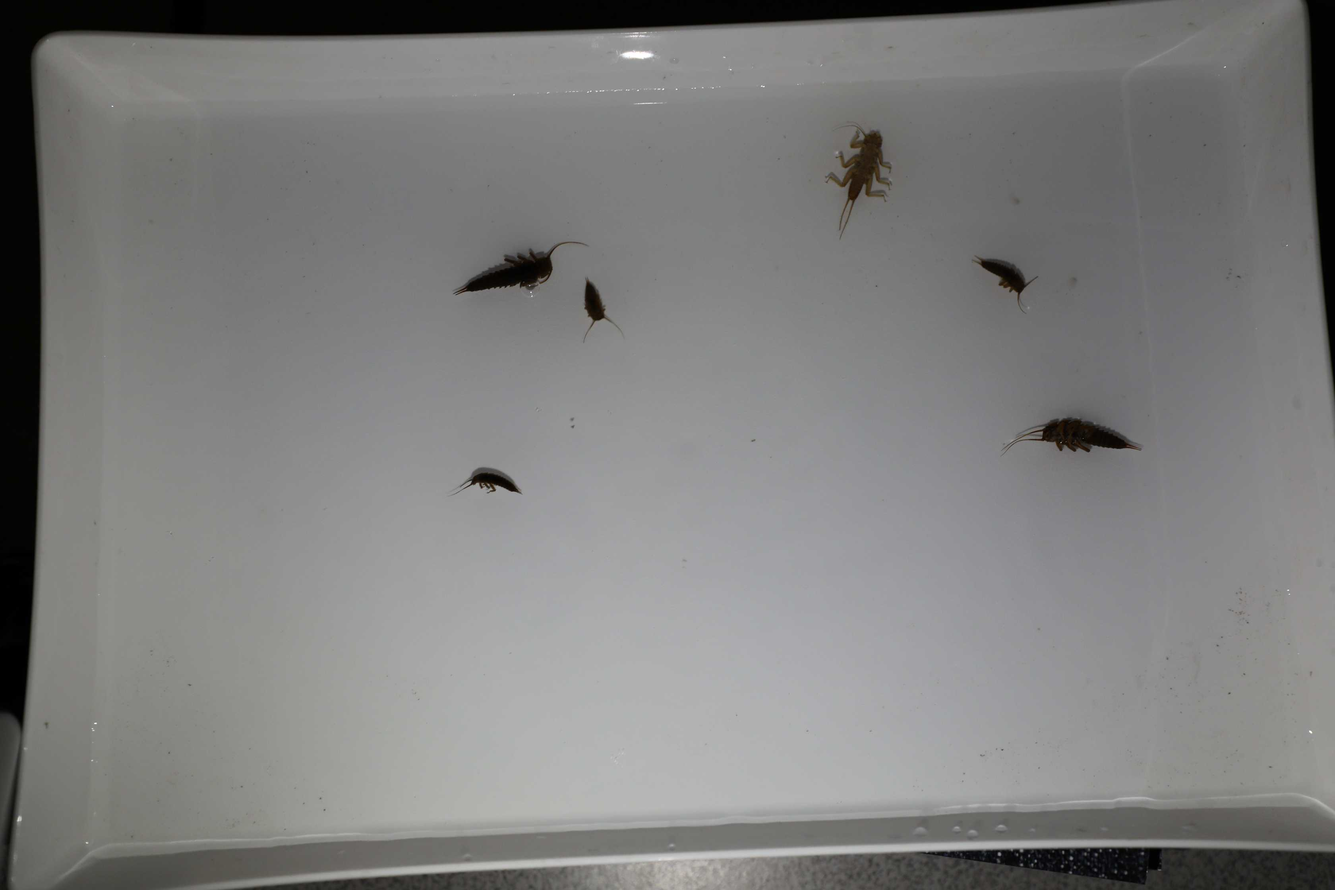Stonefly: (822, 119, 890, 239), (454, 238, 586, 299), (1002, 414, 1144, 466), (976, 256, 1045, 314), (573, 271, 616, 348), (454, 462, 522, 505)
